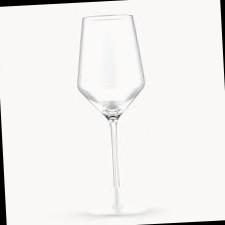glass: (52, 2, 171, 225)
